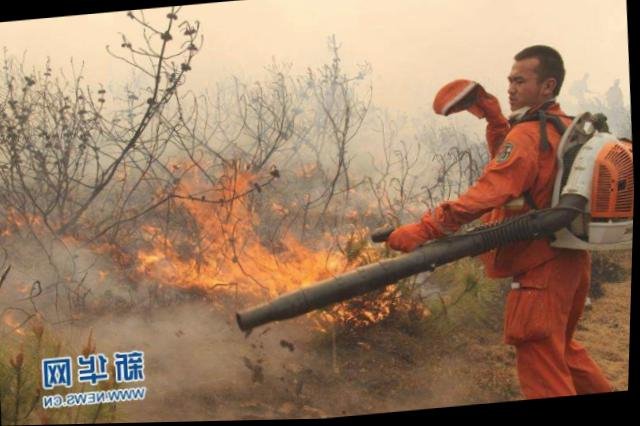fire: (6, 134, 438, 361)
